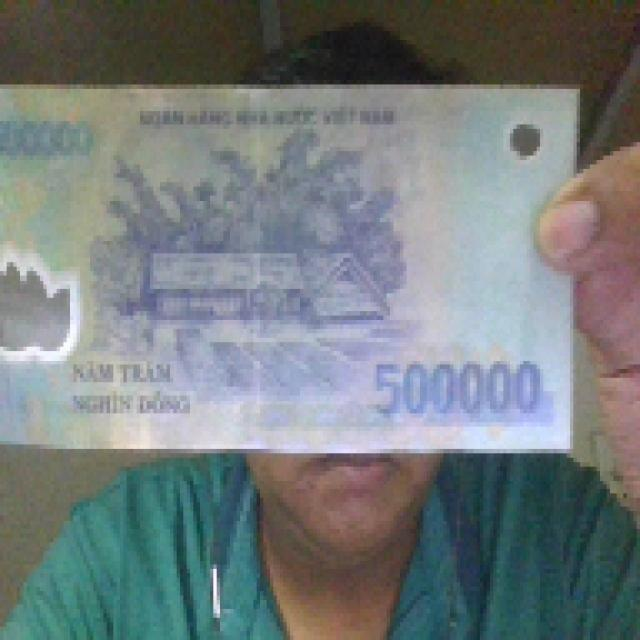500 000 VND: (0, 75, 583, 453)
